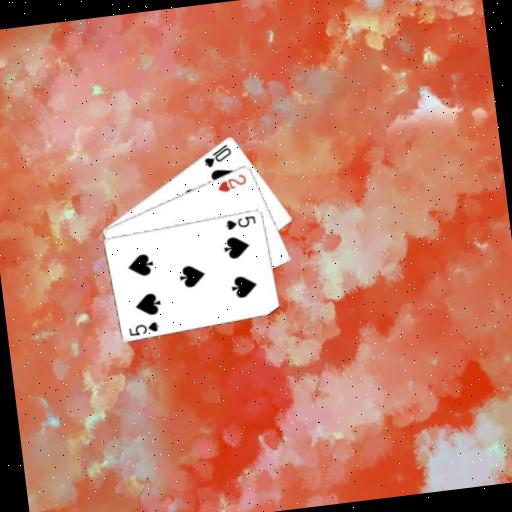10S: (200, 141, 235, 170)
2H: (214, 171, 250, 195)
5S: (222, 211, 259, 231), (125, 318, 162, 338)
